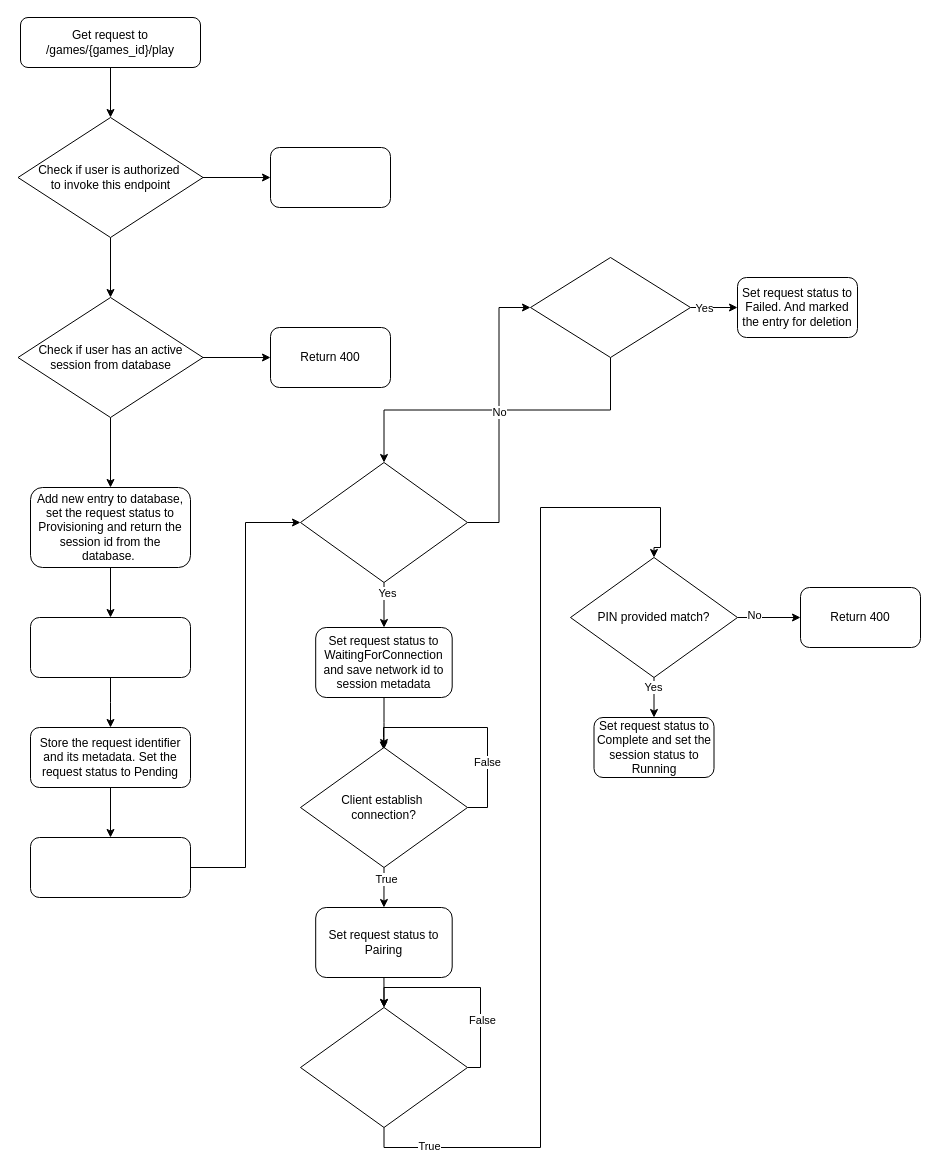
Some shapes in this 938 by 1173 pixel diagram are drawn without their labels. The box of each missing label's shape, as (x1, y1, x2, y2) in pixels:
Any error?: (530, 256, 690, 358)
Call the session manager to create a session request: (30, 616, 190, 678)
Client provide a PIN?: (300, 1006, 468, 1128)
Return 403: (270, 146, 390, 208)
Return the session identifier to the user.: (30, 836, 190, 898)
VM is created?: (300, 462, 468, 582)
